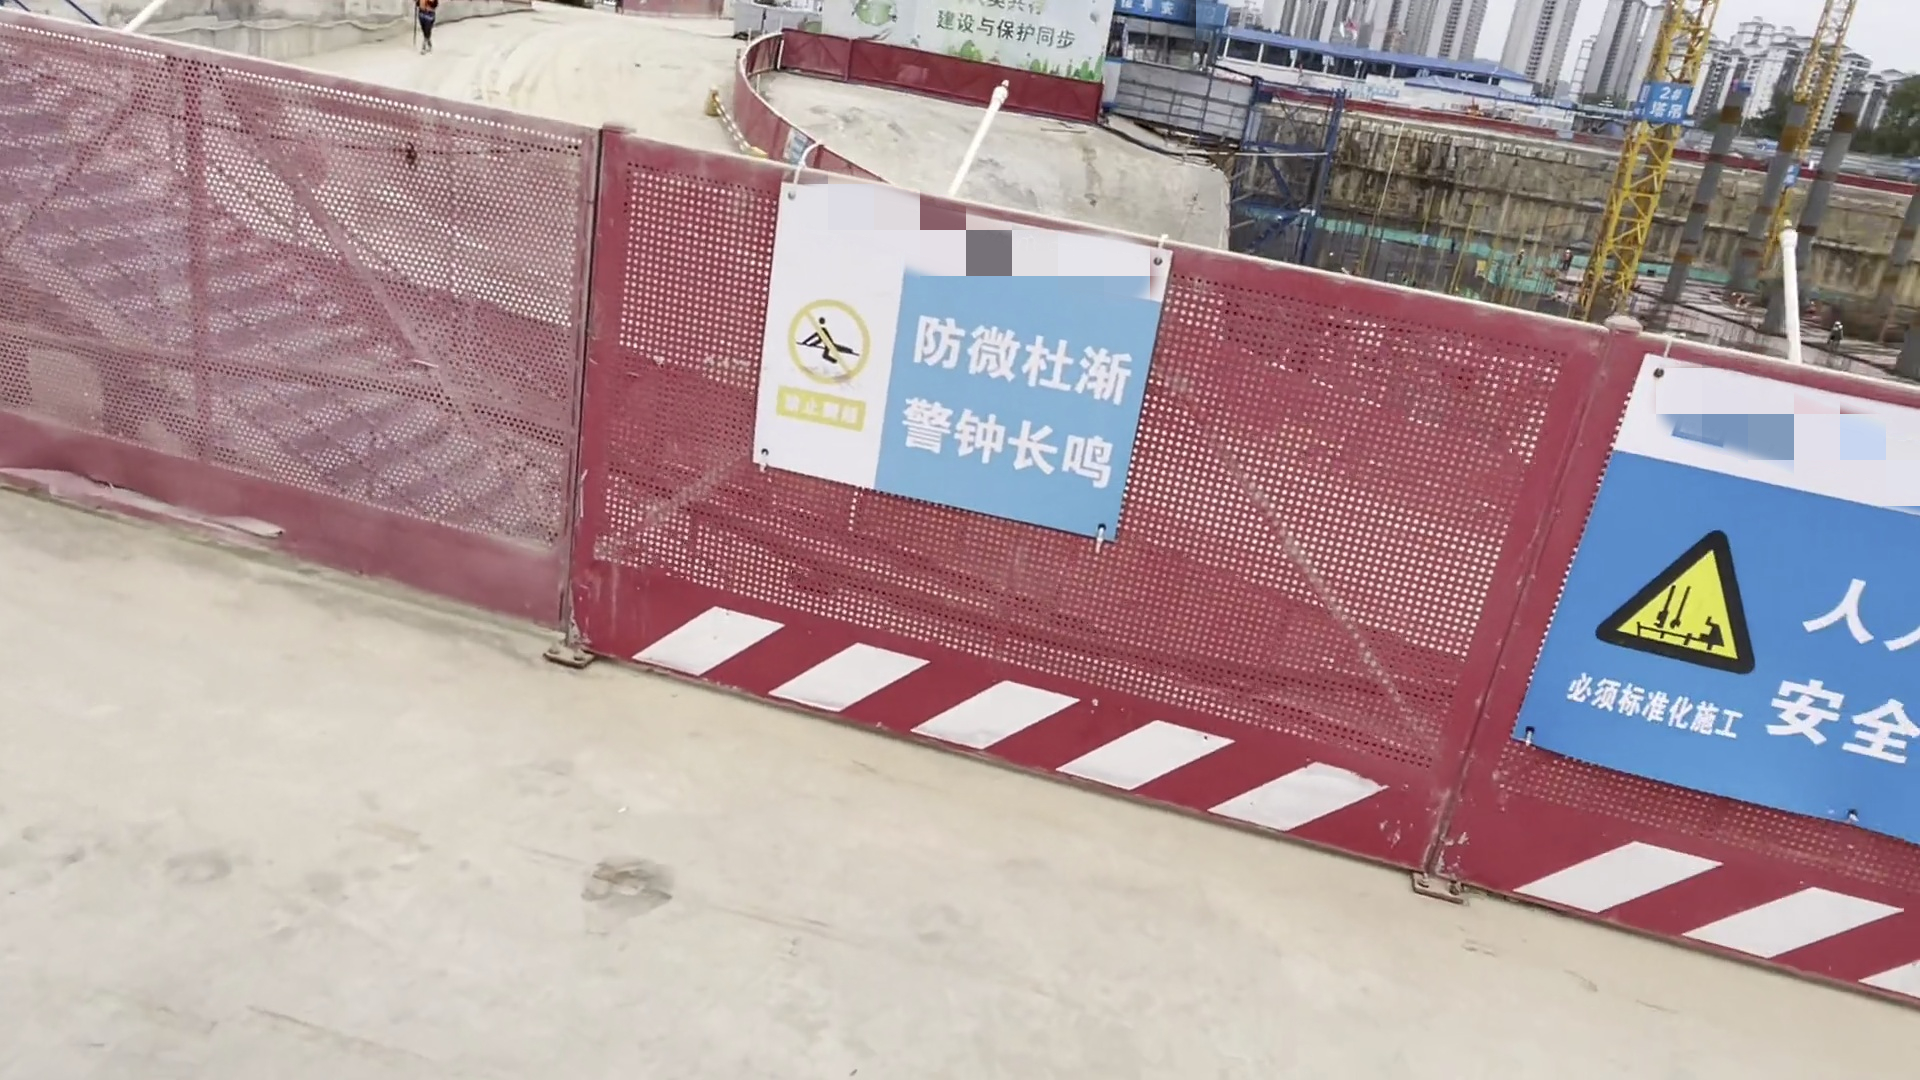fence: (600, 124, 1611, 990), (1, 18, 593, 674), (1482, 313, 1920, 1002)
slogan: (1571, 473, 1920, 774), (774, 295, 1164, 460)
